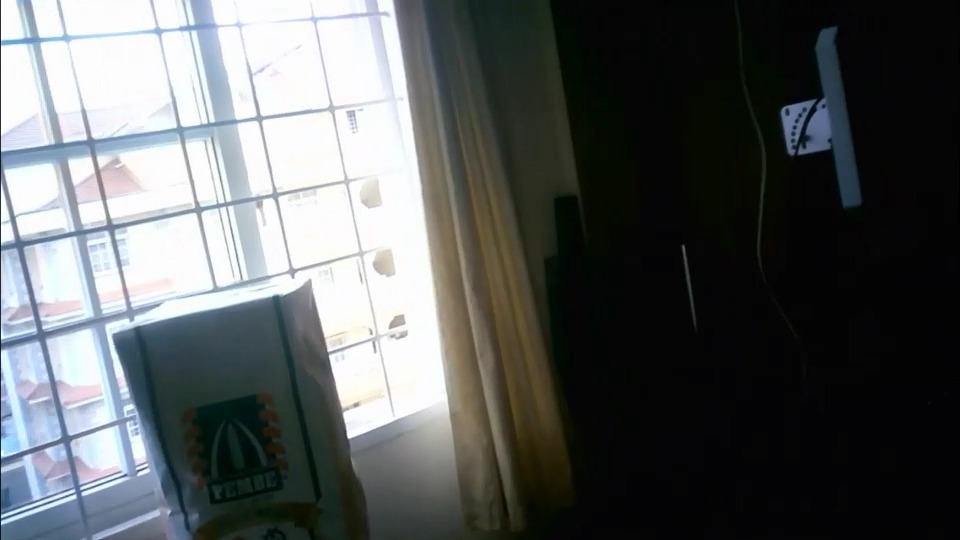maize_flour_green_label: (110, 281, 374, 540)
